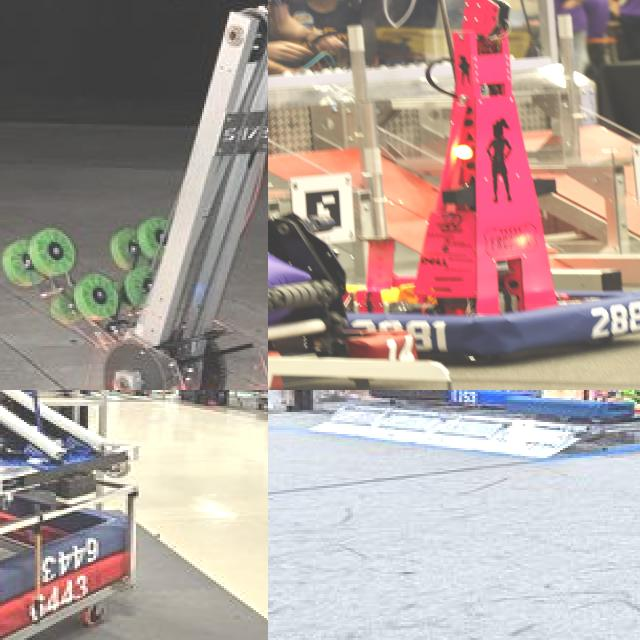FRC-Robots: (340, 0, 640, 364), (0, 7, 268, 390), (0, 390, 179, 539), (268, 178, 384, 390), (470, 390, 640, 440)
